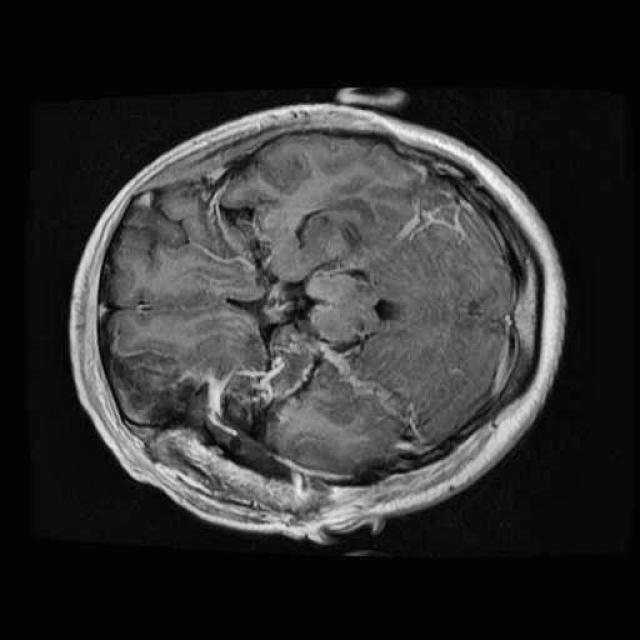Non-Tumor: (203, 321, 421, 489)
